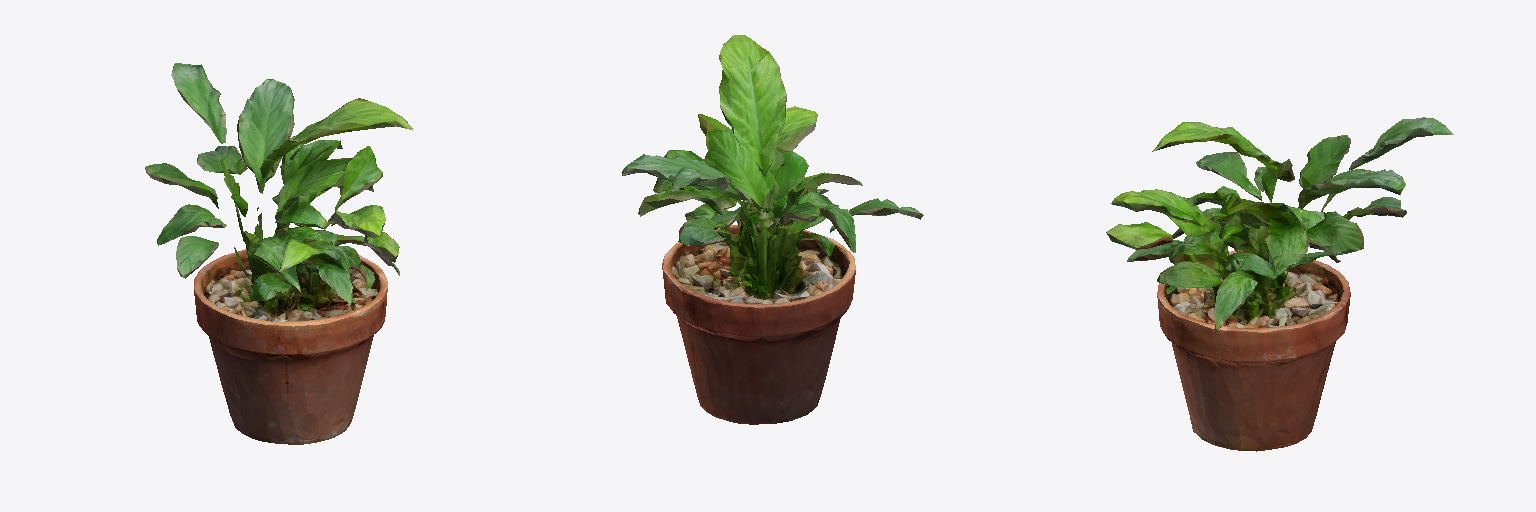
3 views of the same model, side by side, from view 1: azimuth 30°, elevation 25°; view 2: azimuth 150°, elevation 25°; view 3: azimuth 270°, elevation 25° (orthographic).
Visible parts, largest first — view 1: PEACE_LILLY_5K; view 2: PEACE_LILLY_5K; view 3: PEACE_LILLY_5K.
Boxes of the visible parts, x1=… form: PEACE_LILLY_5K: x1=145, y1=63, x2=413, y2=444; PEACE_LILLY_5K: x1=622, y1=35, x2=923, y2=424; PEACE_LILLY_5K: x1=1106, y1=117, x2=1453, y2=451.
Bounding box in the file's own units: 0.2948 × 0.3855 × 0.3812.
Materials: 1 (1 with a texture image).